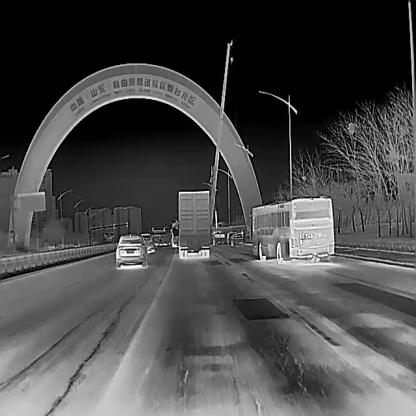bus: (248, 196, 334, 262)
car: (115, 234, 147, 267), (139, 233, 154, 254), (230, 232, 243, 245)
truck: (178, 190, 210, 257), (170, 220, 178, 252)
